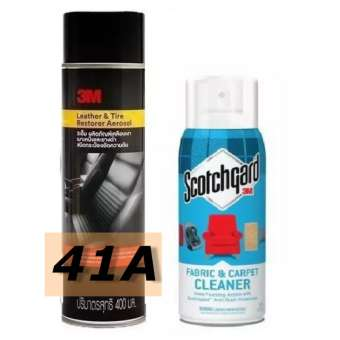Aerosol_cans: (59, 9, 149, 330), (175, 69, 269, 328)
